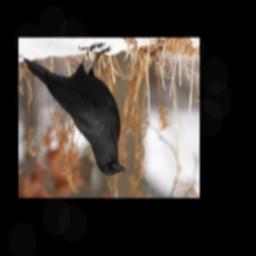Crow: (22, 42, 129, 179)
